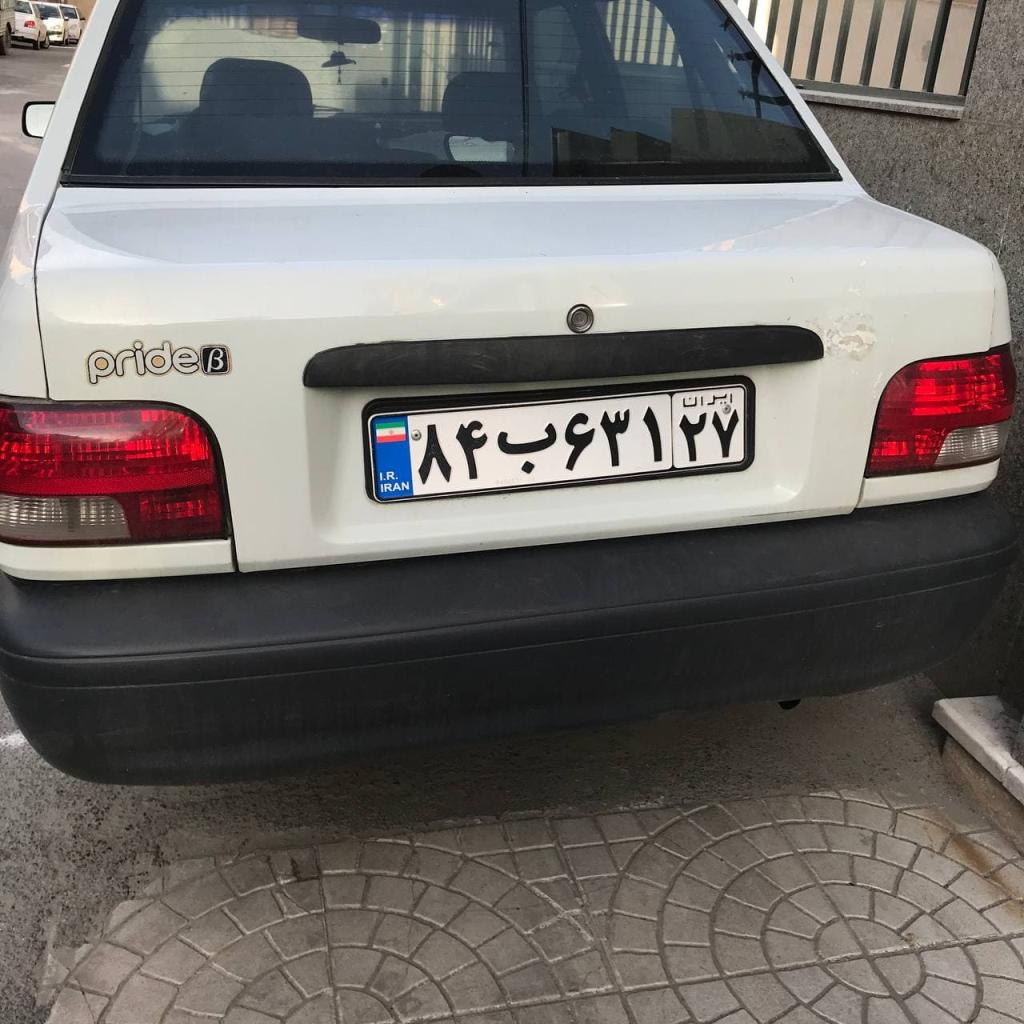Plates: (368, 385, 747, 502)
